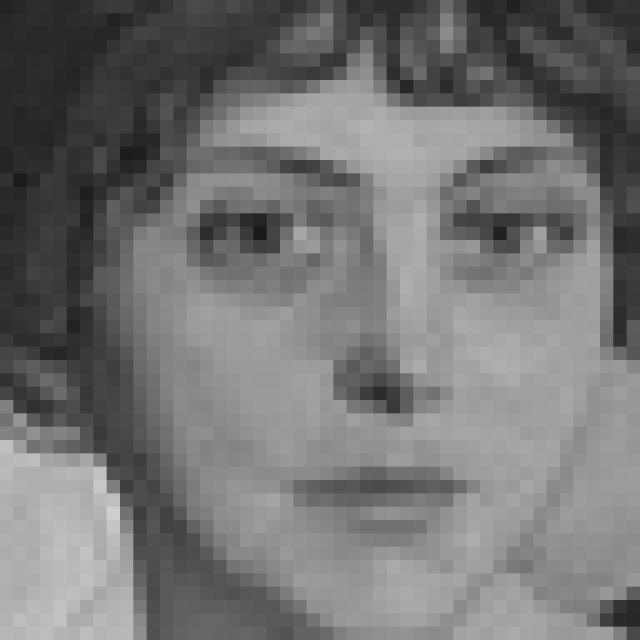neutral: (185, 139, 592, 544)
